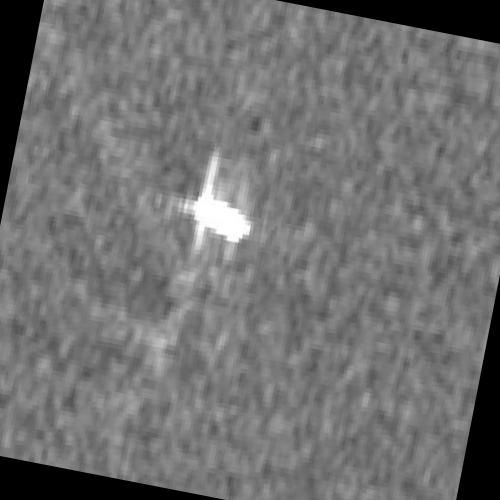ship: (193, 195, 252, 244)
